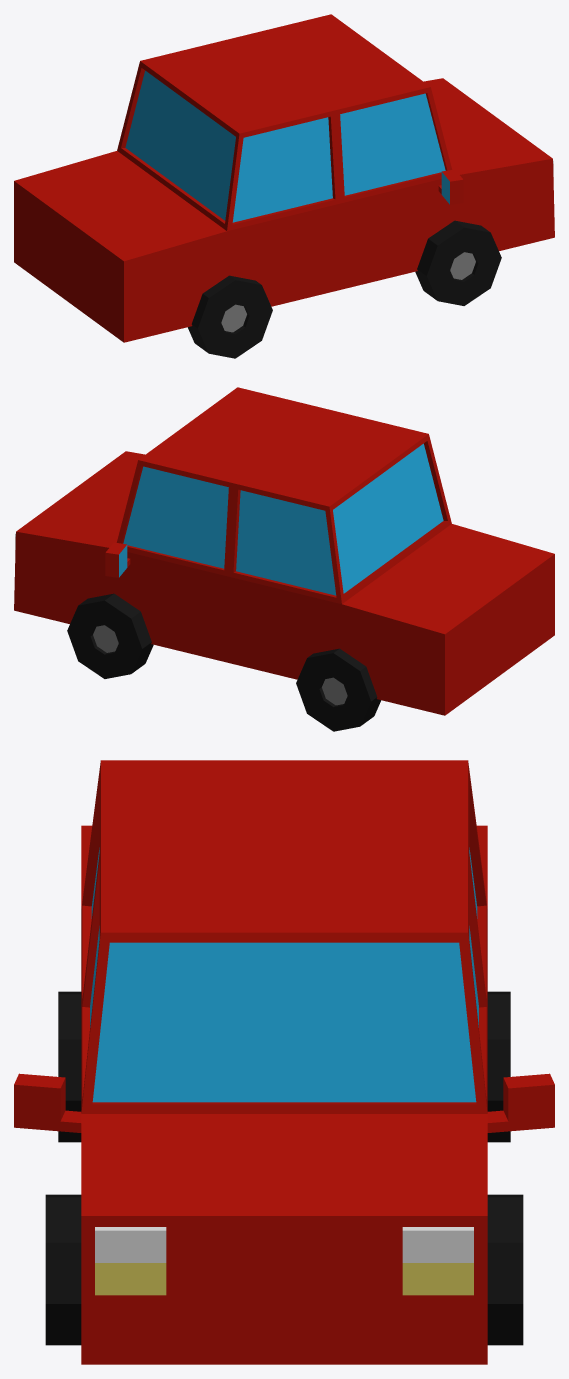
The model's file is City_Car.fbx.
The picture shows the model from 3 angles, top to bottom: view 1: azimuth 30°, elevation 25°; view 2: azimuth 150°, elevation 25°; view 3: azimuth 270°, elevation 25°; orthographic projection. The views are drawn at different scales.
Visible parts, largest first — view 1: Cube.001; view 2: Cube.001; view 3: Cube.001.
Part boxes in pixels (left/top/right/bottom): Cube.001: left=14, top=14, right=554, bottom=358; Cube.001: left=14, top=387, right=554, bottom=731; Cube.001: left=14, top=760, right=554, bottom=1364.
Bounding box in the file's own units: 210 × 360 × 169.
